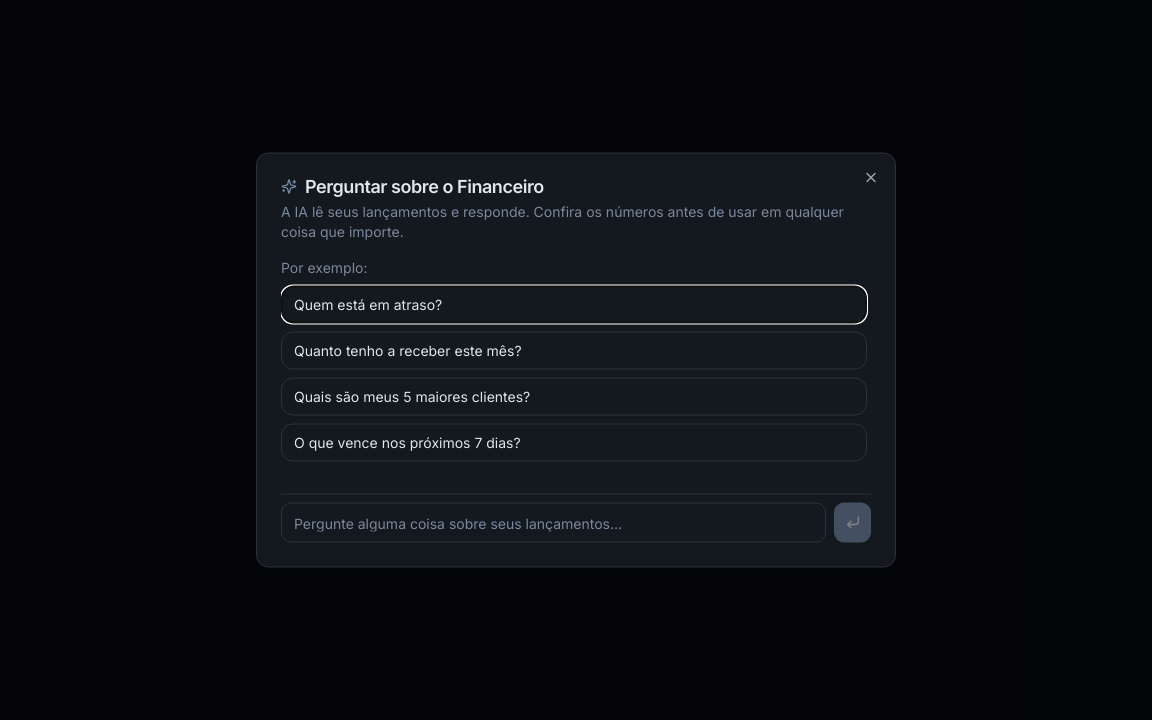
Test: AssistenteFinanceiro › clicar numa sugestao ja pergunta
This screenshot has width=1152, height=720.
Click the button "Quem está em atraso?". click: (368, 304)
box: [281,286,867,324]
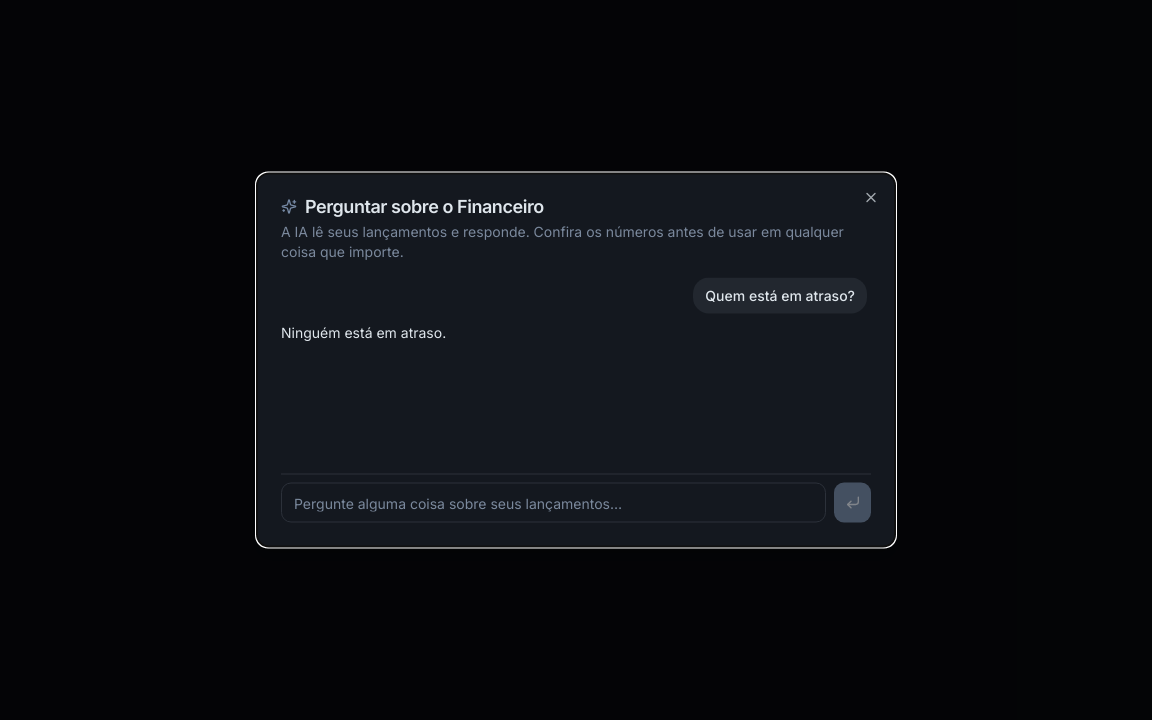
expect the text "Ninguém está em atraso." is shown: met, box [281,324,446,340]
